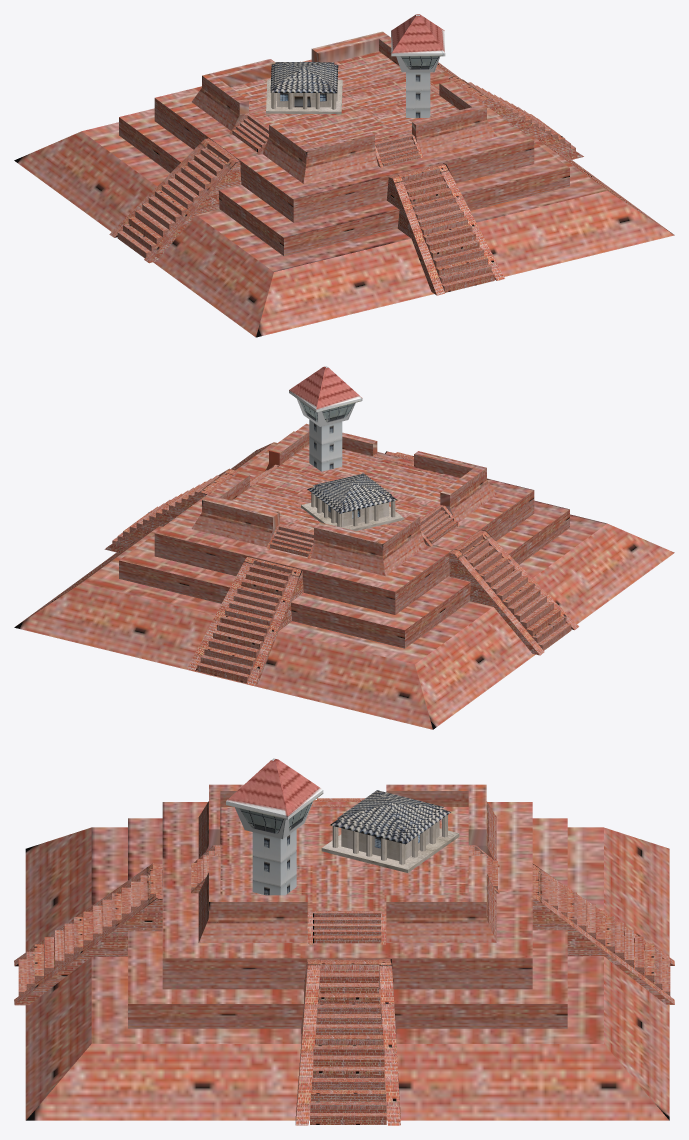
The model's file is promin_withtexture.fbx.
The picture shows the model from 3 angles, top to bottom: view 1: azimuth 30°, elevation 25°; view 2: azimuth 150°, elevation 25°; view 3: azimuth 270°, elevation 25°; orthographic projection. The views are drawn at different scales.
Visible parts, largest first — view 1: pCube26, pCube4, pCube28, pCube27, pCube23, pCube22, pCube40, pCube41, pCube25, pCube38, pCube39; view 2: pCube26, pCube4, pCube28, pCube27, pCube24, pCube22, pCube40, pCube41, pCube25, pCube37, pCube39; view 3: pCube26, pCube4, pCube28, pCube27, pCube25, pCube23, pCube24, pCube40, pCube41, pCube36, pCube38.
Boxes of the visible parts, x1,y1,x2,y2 form: pCube26: (14, 62, 674, 337); pCube4: (192, 31, 497, 183); pCube28: (154, 59, 534, 222); pCube27: (119, 108, 569, 256); pCube23: (386, 163, 504, 295); pCube22: (109, 138, 241, 263); pCube40: (391, 14, 445, 117); pCube41: (266, 62, 342, 114); pCube25: (449, 76, 583, 159); pCube38: (375, 134, 423, 167); pCube39: (229, 113, 268, 154); pCube26: (14, 442, 674, 729); pCube4: (191, 423, 497, 576); pCube28: (154, 431, 534, 614); pCube27: (119, 500, 569, 648); pCube24: (186, 557, 303, 685); pCube22: (449, 530, 578, 655); pCube40: (289, 366, 362, 471); pCube41: (301, 473, 403, 530); pCube25: (104, 468, 238, 552); pCube37: (266, 524, 313, 558); pCube39: (420, 505, 459, 546); pCube26: (25, 827, 669, 1120); pCube4: (198, 784, 496, 942); pCube28: (162, 802, 532, 989); pCube27: (128, 818, 567, 1028); pCube25: (295, 959, 400, 1125); pCube23: (14, 863, 162, 1005); pCube24: (532, 864, 674, 1004); pCube40: (226, 758, 323, 895); pCube41: (321, 790, 459, 872); pCube36: (307, 911, 386, 944); pCube38: (191, 845, 220, 893).
Size of the model in its own units: 25.71 by 10.8 by 25.37.
Materials: 1 (1 with a texture image).
